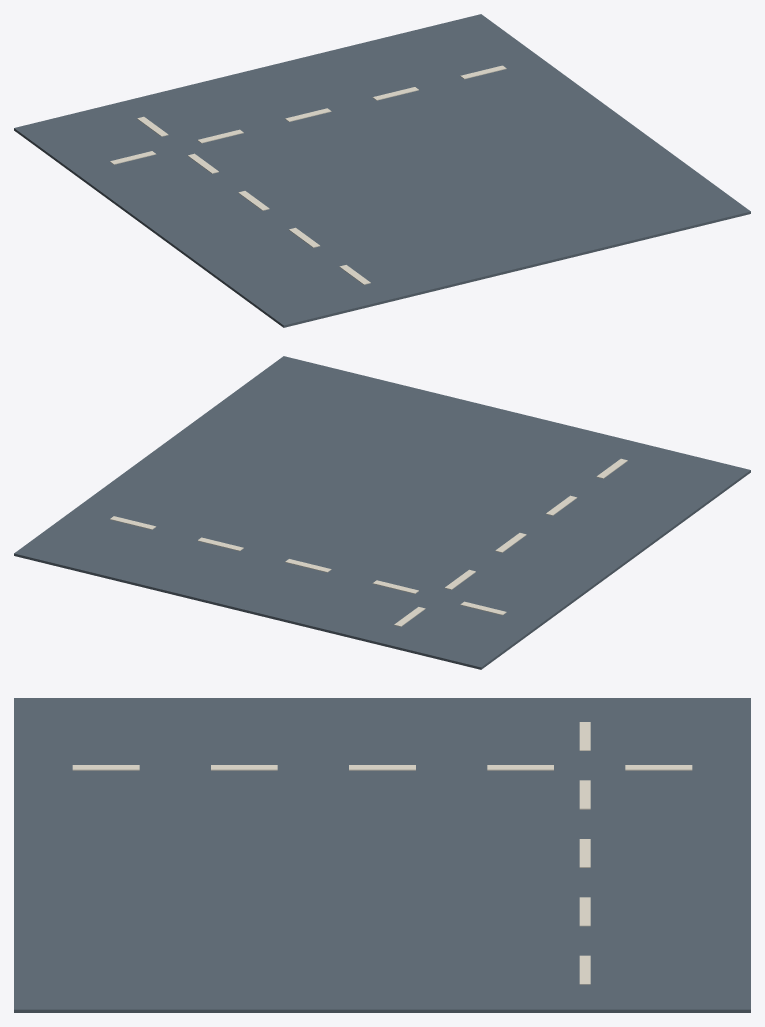
File: la-city-intersection-road.glb
3 views of the same model, one above another, from view 1: azimuth 30°, elevation 25°; view 2: azimuth 150°, elevation 25°; view 3: azimuth 270°, elevation 25° (orthographic). The views are drawn at different scales.
Visible parts, largest first — view 1: la-city-intersection-road; view 2: la-city-intersection-road; view 3: la-city-intersection-road.
Part boxes in pixels (<box>): la-city-intersection-road: <box>14,14,750,327</box>; la-city-intersection-road: <box>14,356,750,669</box>; la-city-intersection-road: <box>14,698,750,1012</box>.
Size of the model in its own units: 16 by 0.1 by 16.
